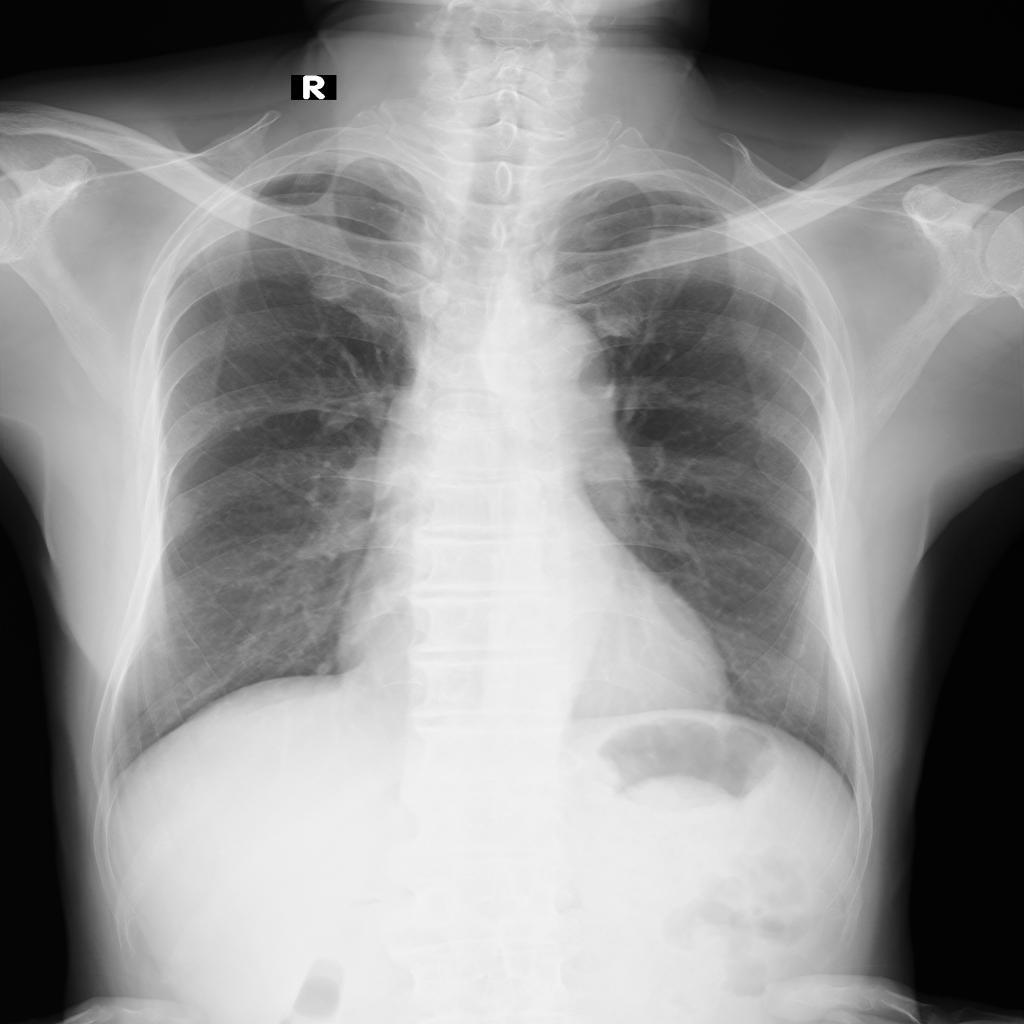Nodule: (316, 663, 332, 676)
